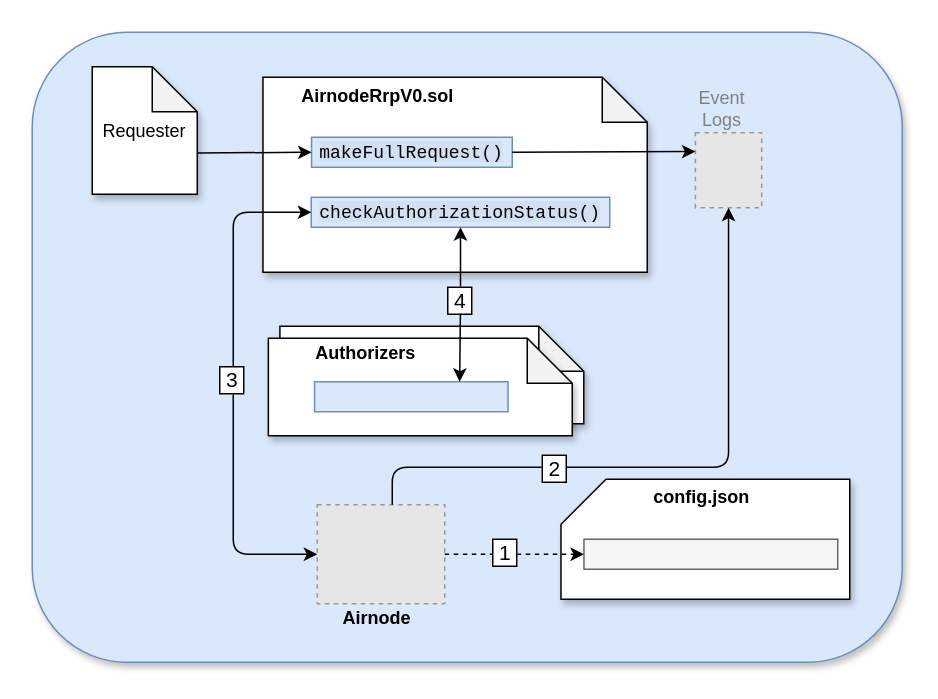
The diagram is 938 pixels wide and 699 high, and some of its shapes have lost their labels. Grey dashed boxes stand in for pictures. The centre of each missing label's shape, as x and y in pixels:
"chains[n].authorizers" goes at pixel 710 553.
"isAuthorized()" goes at pixel 410 396.
